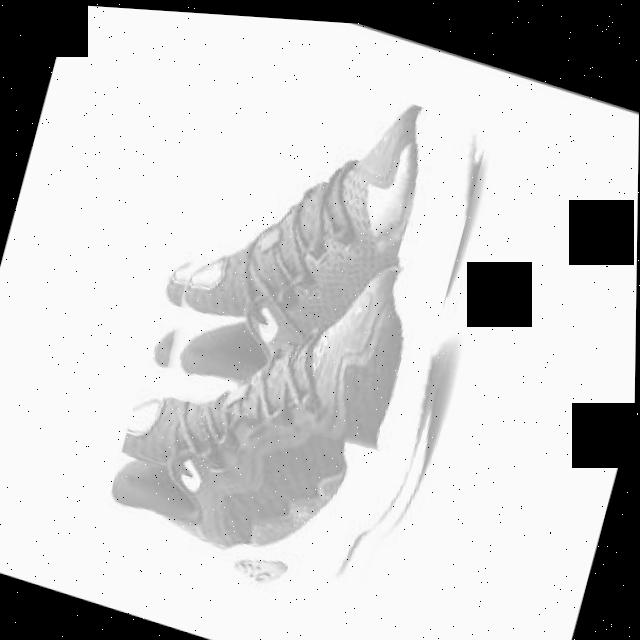shoe: (97, 197, 471, 631), (143, 40, 491, 469)
